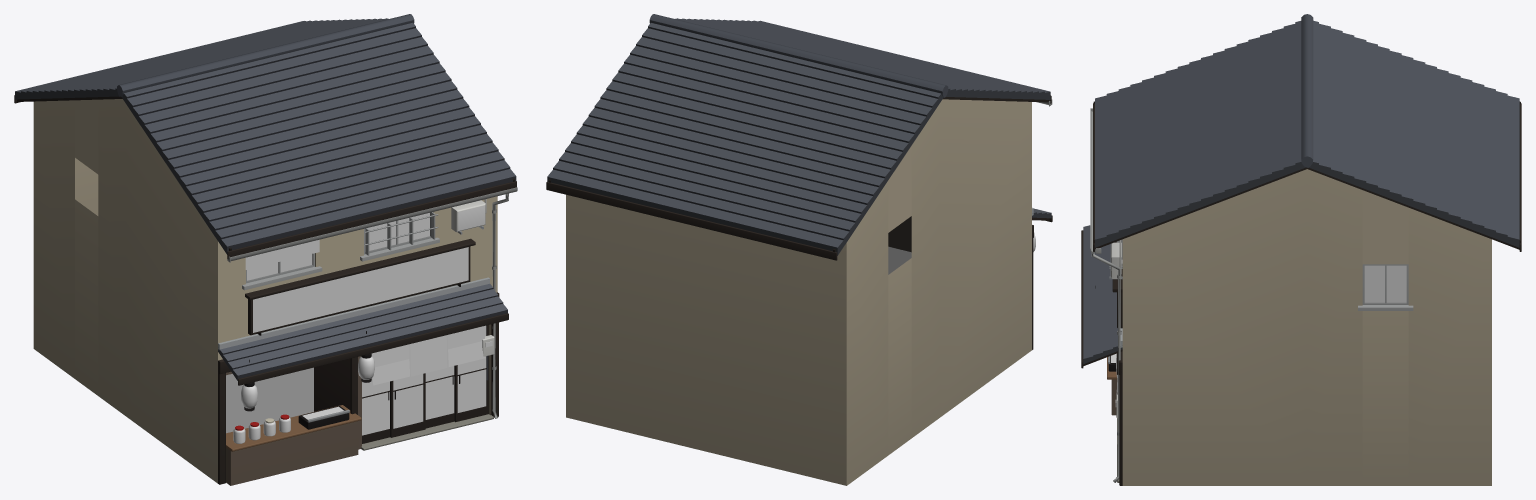
The model's file is ShopSembeiKM.fbx.
3 renders of one model, left to right at view 1: azimuth 30°, elevation 25°; view 2: azimuth 150°, elevation 25°; view 3: azimuth 270°, elevation 25°, orthographic.
Visible parts, largest first — view 1: ShopSembeiKM; view 2: ShopSembeiKM; view 3: ShopSembeiKM.
Boxes of the visible parts, box(x1,y1,x2,y2) form: ShopSembeiKM: box(14, 14, 517, 485); ShopSembeiKM: box(546, 14, 1052, 485); ShopSembeiKM: box(1081, 14, 1521, 485).
Size of the model in its own units: 7.3 by 7.95 by 9.54.
